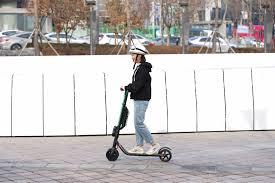kick_wheel: (106, 148, 118, 161)
